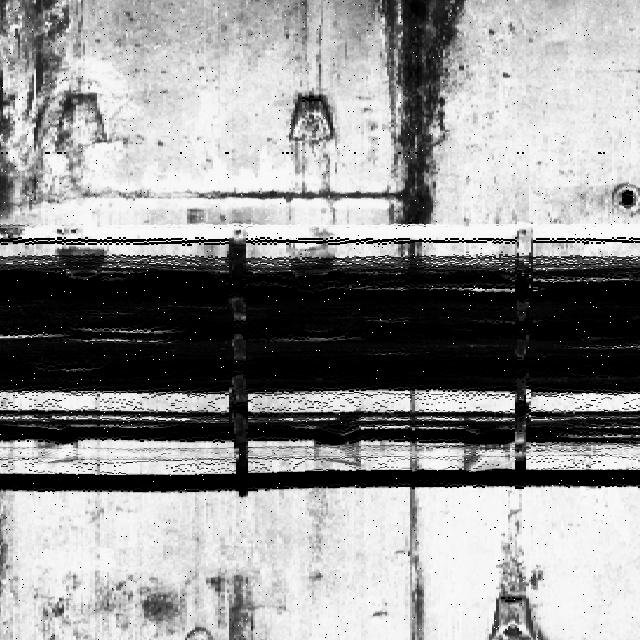leakage: (363, 0, 470, 224)
